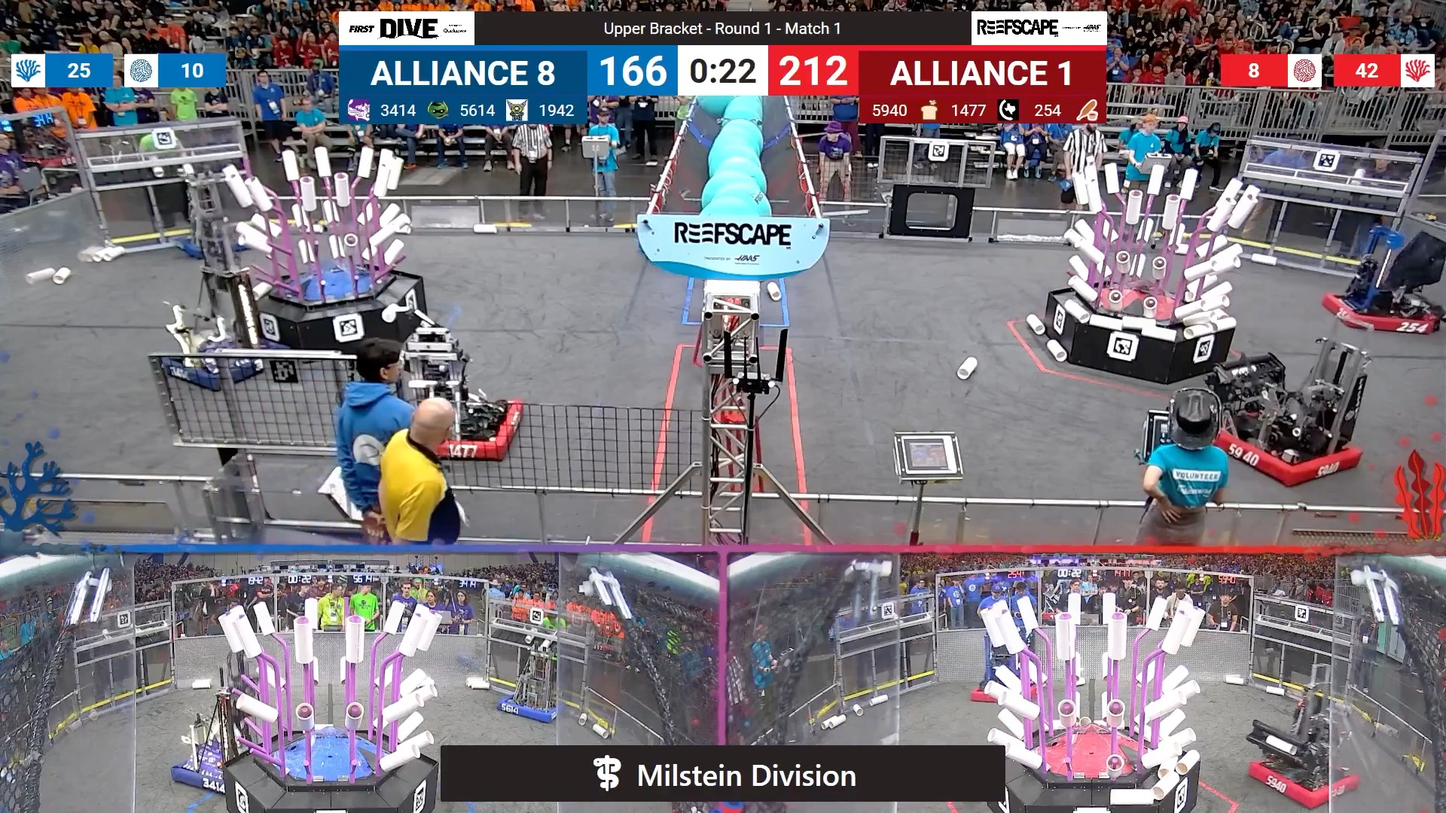bumpers: (1199, 412, 1377, 490), (418, 392, 527, 461), (1237, 752, 1363, 811), (1316, 286, 1446, 338), (153, 343, 283, 389), (171, 743, 251, 790), (496, 693, 572, 728)
